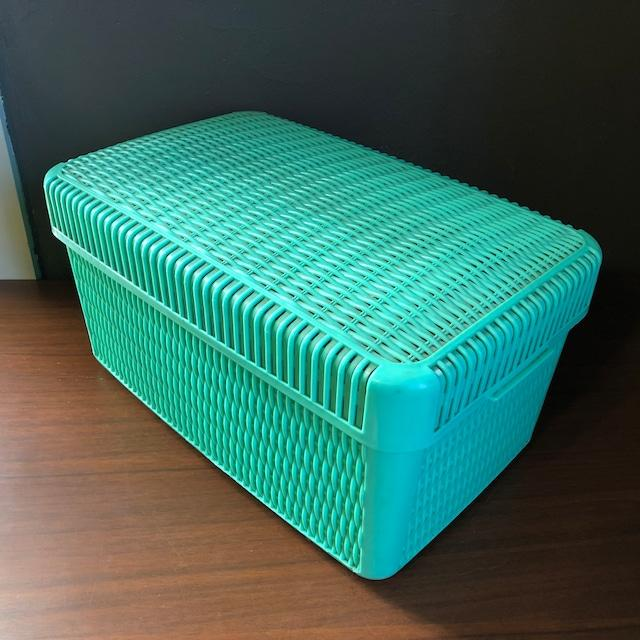plastic: (40, 105, 603, 576)
